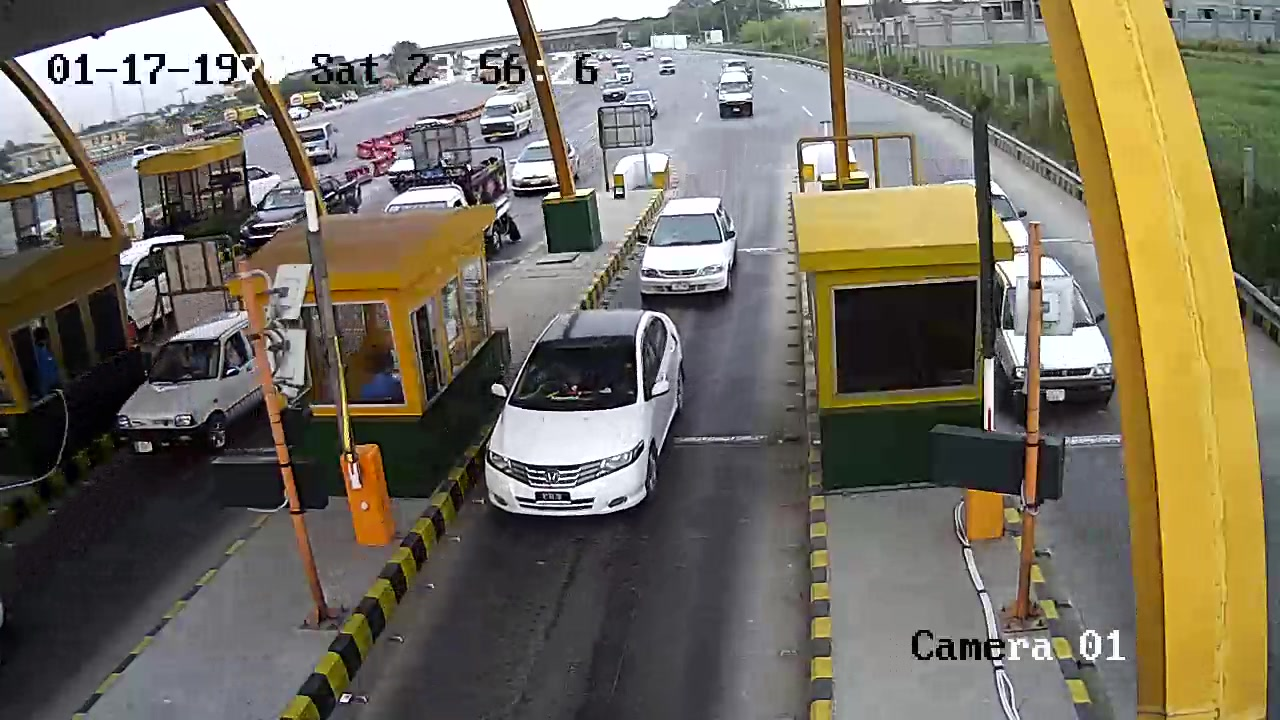F1: (478, 312, 692, 536)
